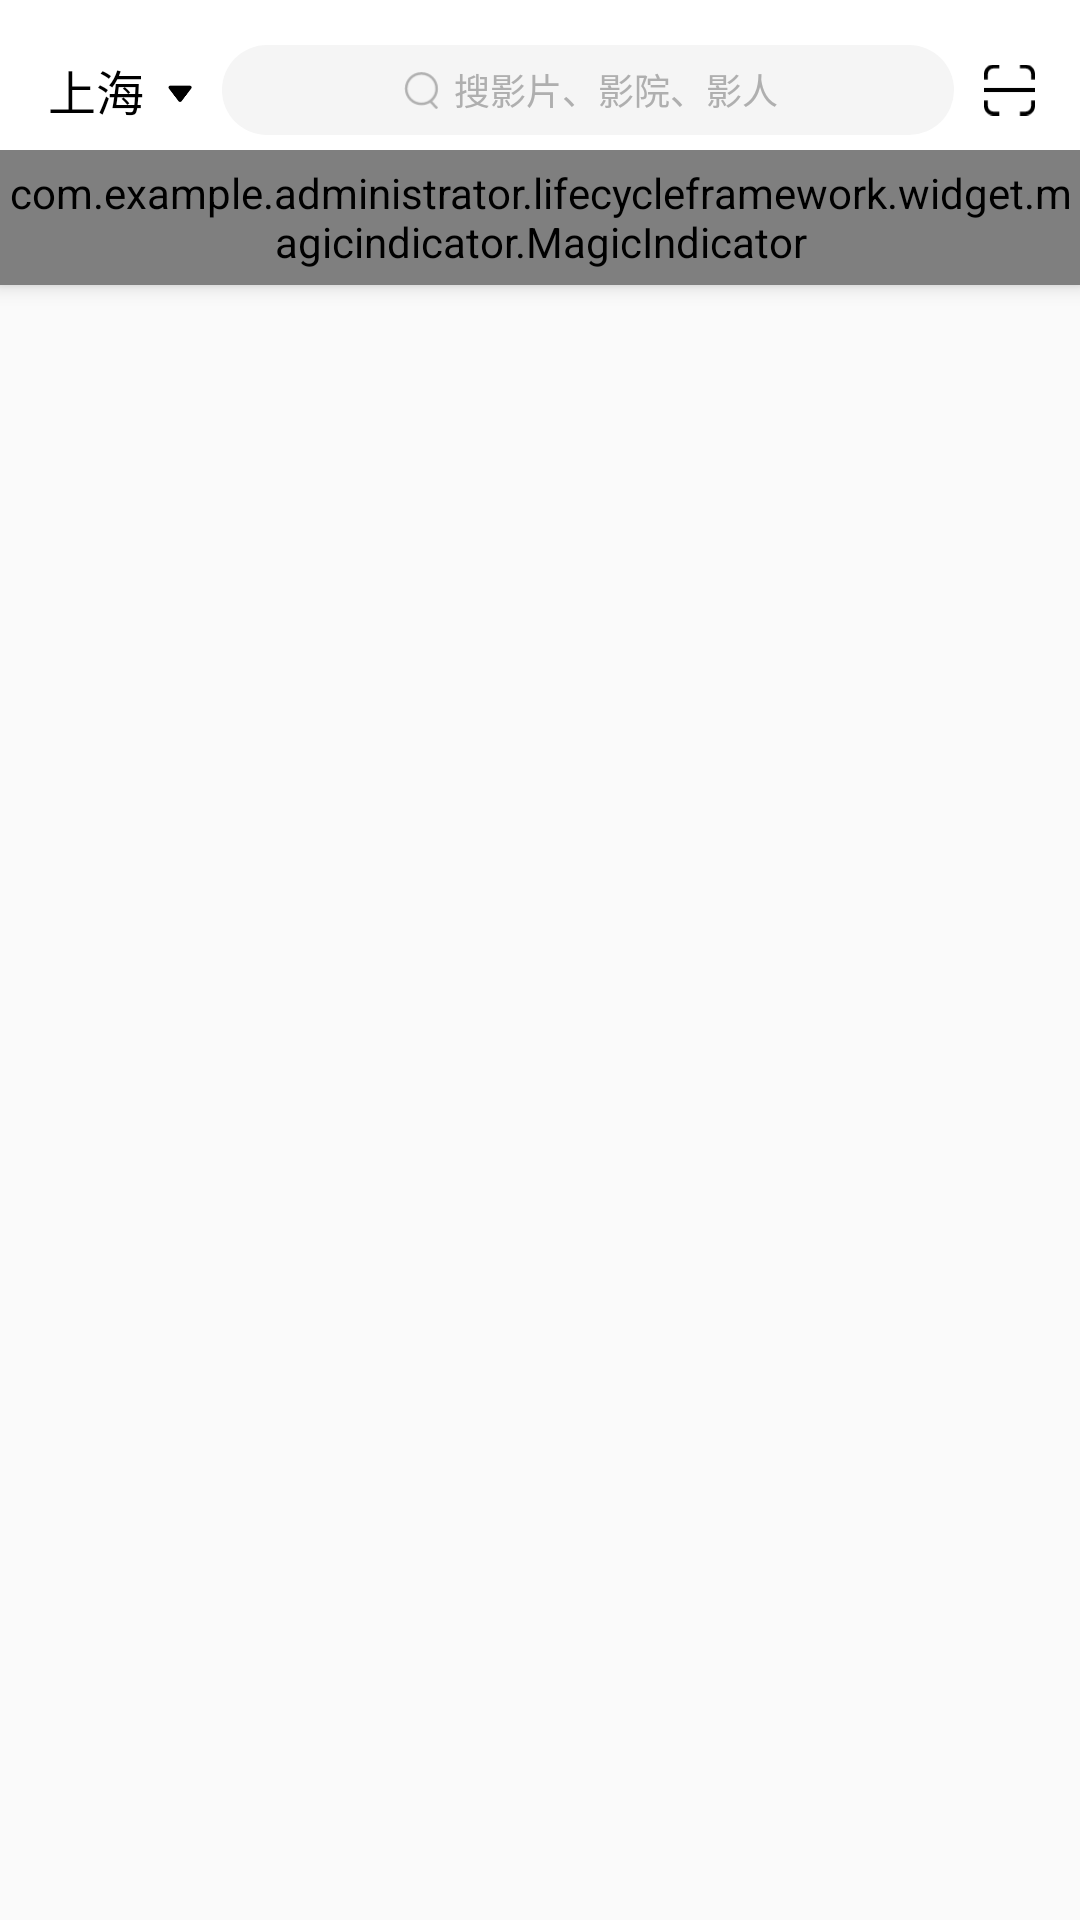

Where icons sit on this 1080 × 1920 app screen, as (x1, y1, x2, y2):
down: (168, 85, 192, 102)
qr code: (984, 65, 1035, 116)
